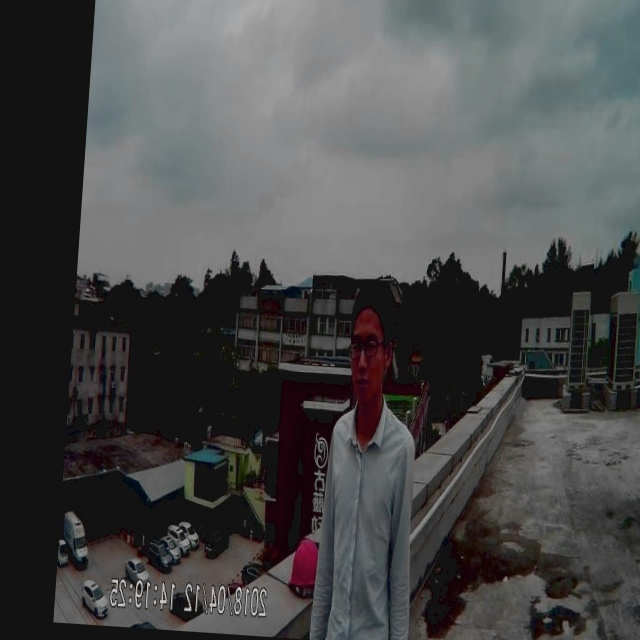Sin_Casco_Mascarrilla: (344, 283, 398, 407)
Sin_Chaleco: (315, 405, 419, 640)
